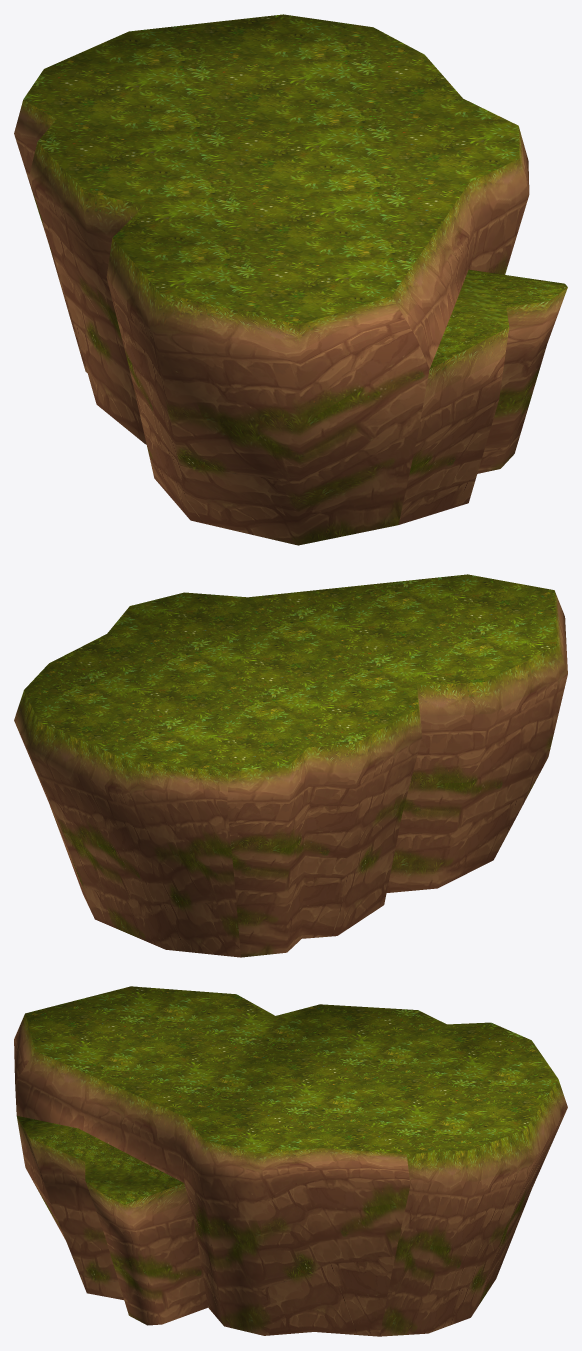
Rendered from suishi_003.FBX.
The picture shows the model from 3 angles, top to bottom: view 1: azimuth 30°, elevation 25°; view 2: azimuth 150°, elevation 25°; view 3: azimuth 270°, elevation 25°; orthographic projection. The views are drawn at different scales.
Parts seen in each view (by area): view 1: suishi_003; view 2: suishi_003; view 3: suishi_003.
Part boxes in pixels (x1,y1,x2,y2): suishi_003: (14, 14, 567, 545); suishi_003: (14, 574, 567, 957); suishi_003: (14, 986, 567, 1336).
Size of the model in its own units: 917 by 492 by 1232.
2 materials, 2 textured.
